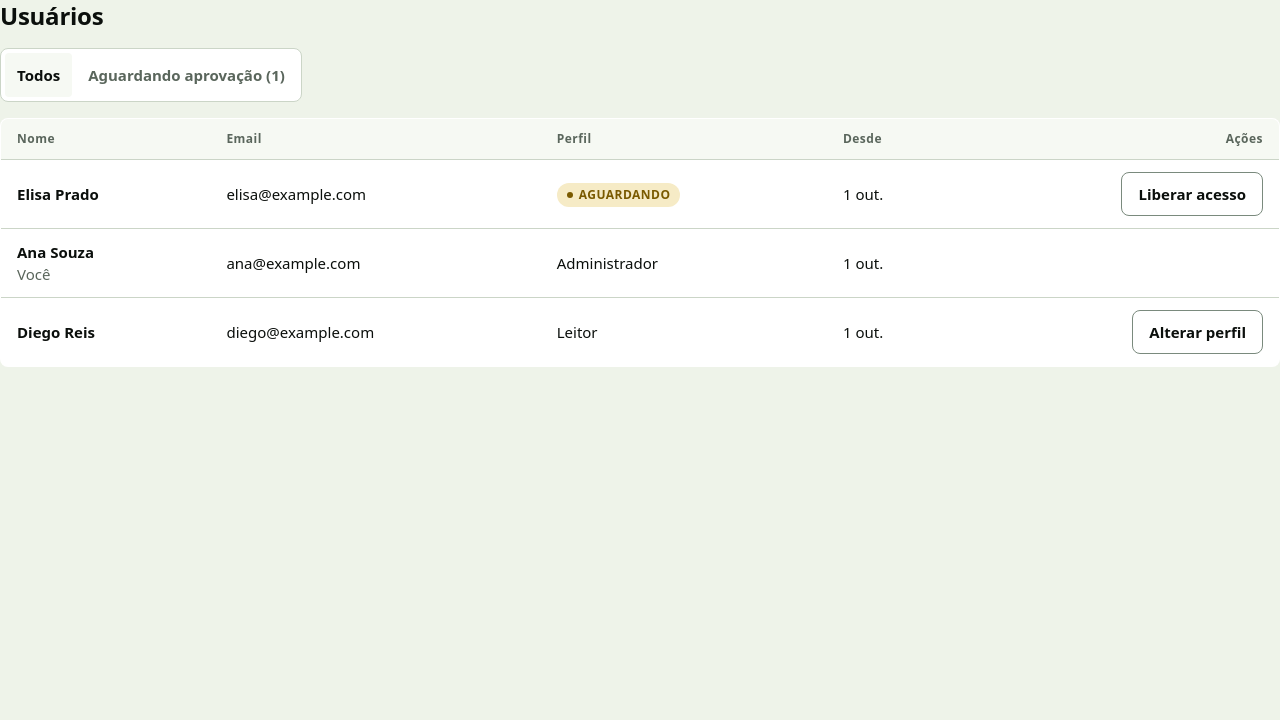
it: ProfileDialog › revokes the access after a confirmation
This screenshot has width=1280, height=720.
What coordinates should you click on to do the following:
click the button with aria-label "Alterar perfil de Diego Reis"
I would click on:
 (1198, 332)
Its box is [1132,310,1263,354].
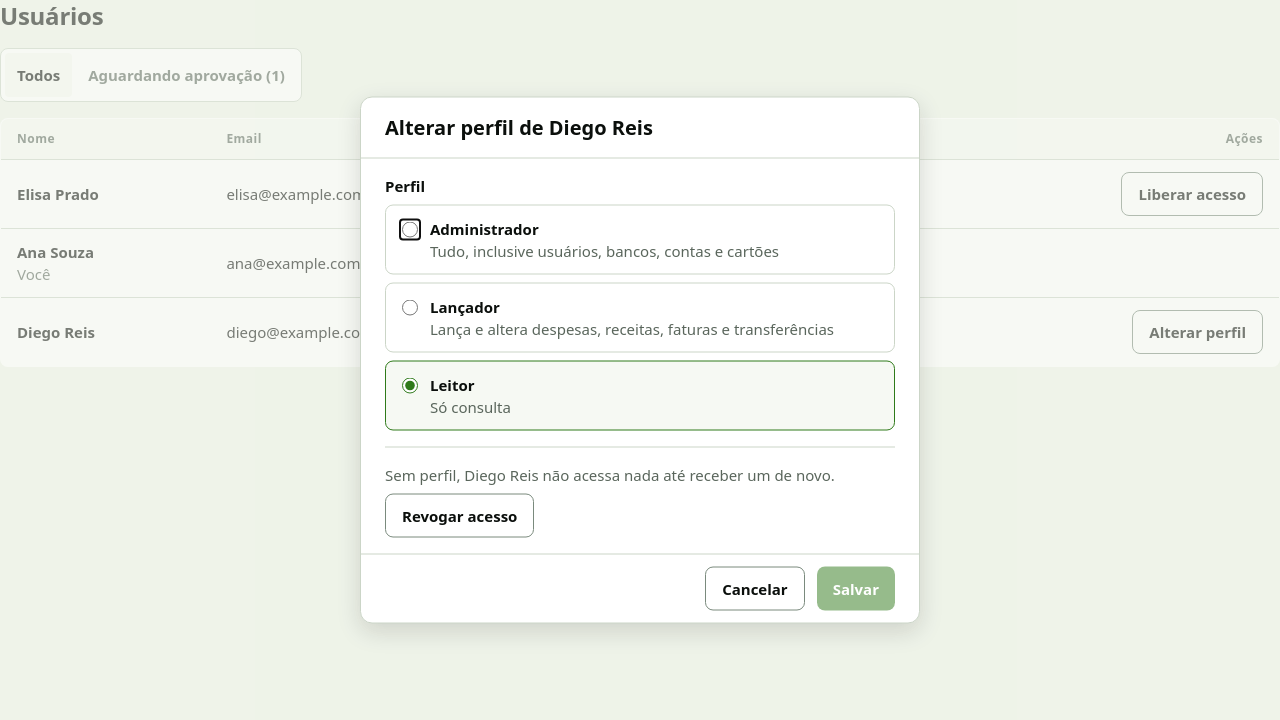
What coordinates should you click on to do the following:
click the button "Revogar acesso"
I would click on:
 (460, 516)
Its box is [385,494,534,538].
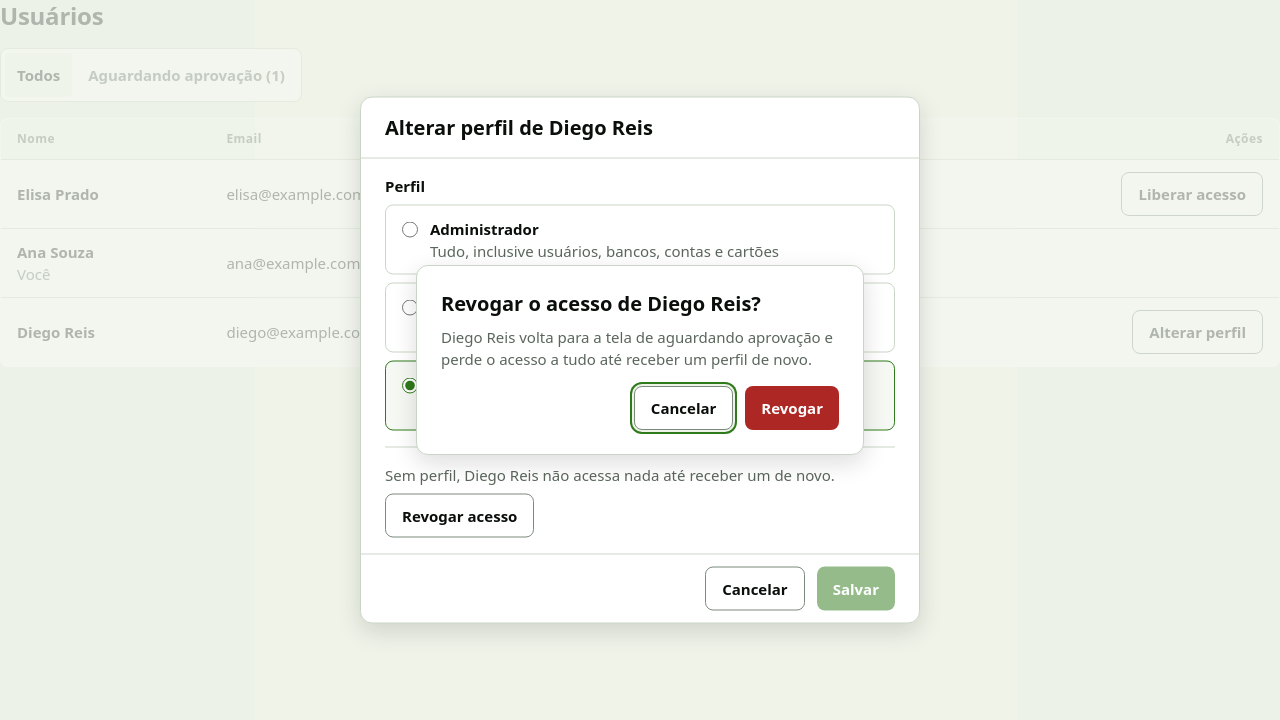
Expected: the dialog "Revogar o acesso de Diego Reis?" shows "Diego Reis volta para a tela de aguardando aprovação e perde o acesso a tudo até receber um perfil de novo.", [441,327,833,369]
What coordinates should you click on to do the following:
click the button "Revogar"
I would click on:
 (792, 408)
Its box is [745,386,839,430].
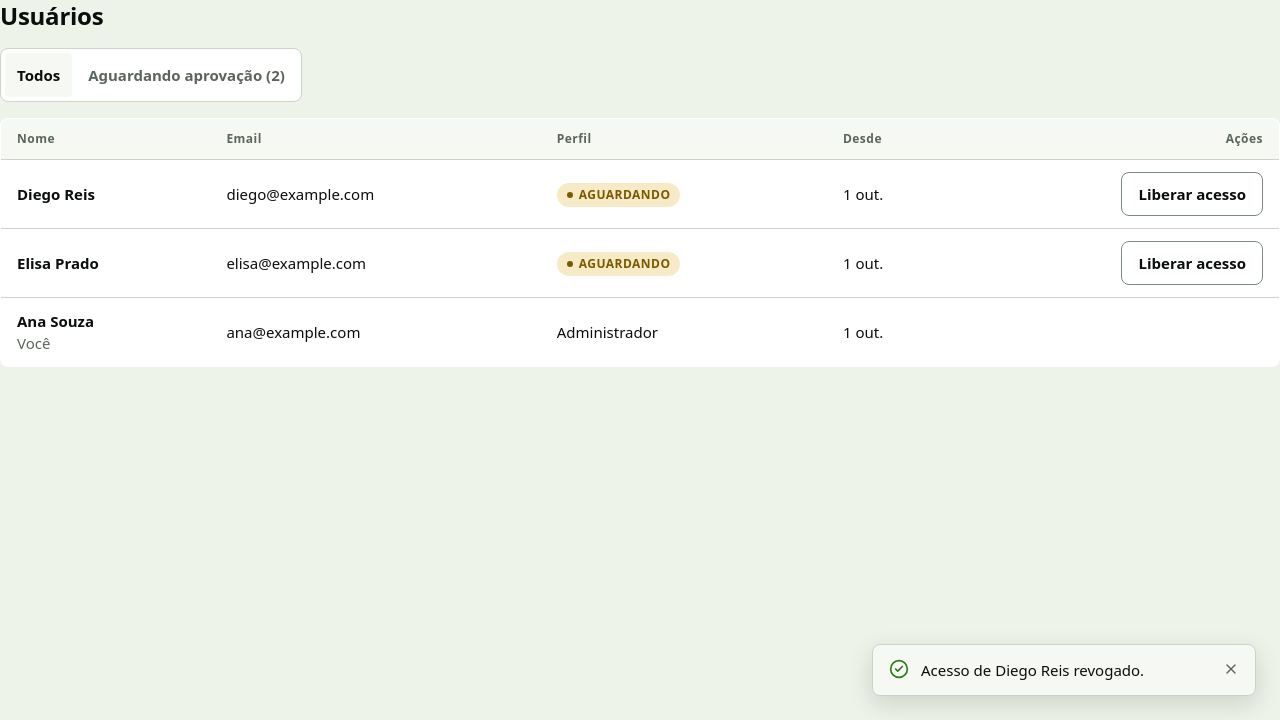
Expected: the text "Aguardando" is shown, [557,183,680,207]
Expected: the dialog is gone
Expected: the text "Acesso de Diego Reis revogado." is shown, [921,660,1144,680]
